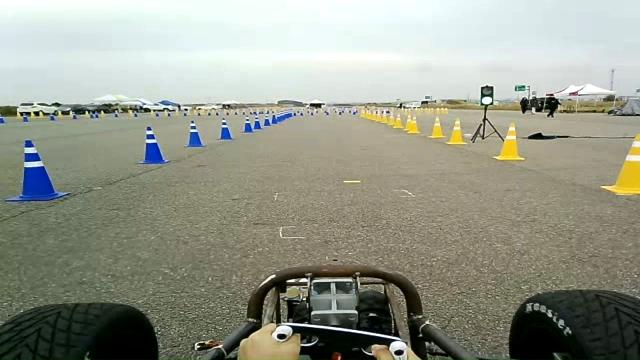blue cone: (5, 138, 71, 202), (137, 125, 170, 164), (183, 120, 206, 148), (217, 117, 234, 140), (241, 116, 254, 133), (252, 112, 263, 130), (262, 115, 271, 126), (271, 114, 278, 124)
yellow cone: (600, 133, 639, 195), (492, 122, 525, 160), (445, 117, 467, 145), (428, 116, 446, 138), (406, 114, 420, 134), (505, 122, 517, 139), (392, 113, 403, 129), (404, 116, 414, 130)
